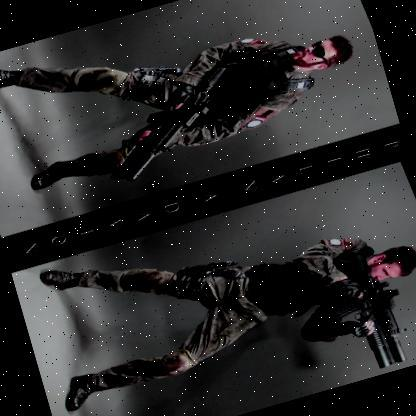rifle: (83, 50, 253, 192), (318, 232, 415, 378)
